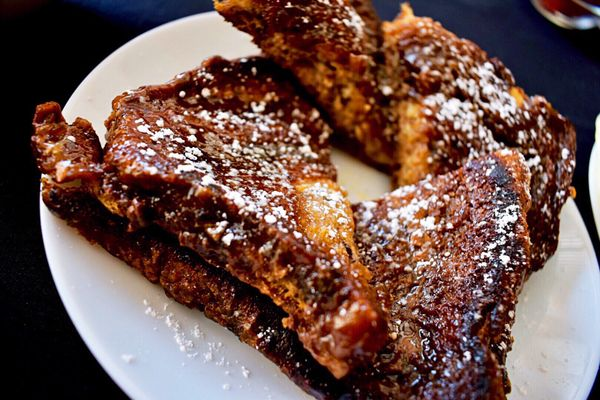curry: (54, 0, 600, 394)
sushi: (35, 51, 398, 394)
